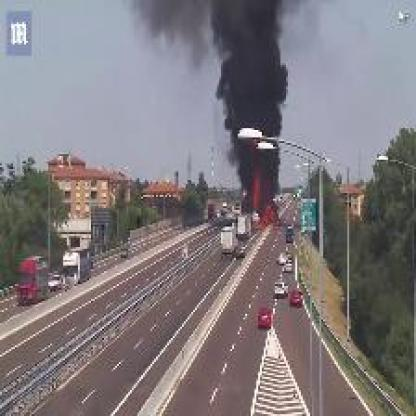fire: (249, 169, 280, 232)
